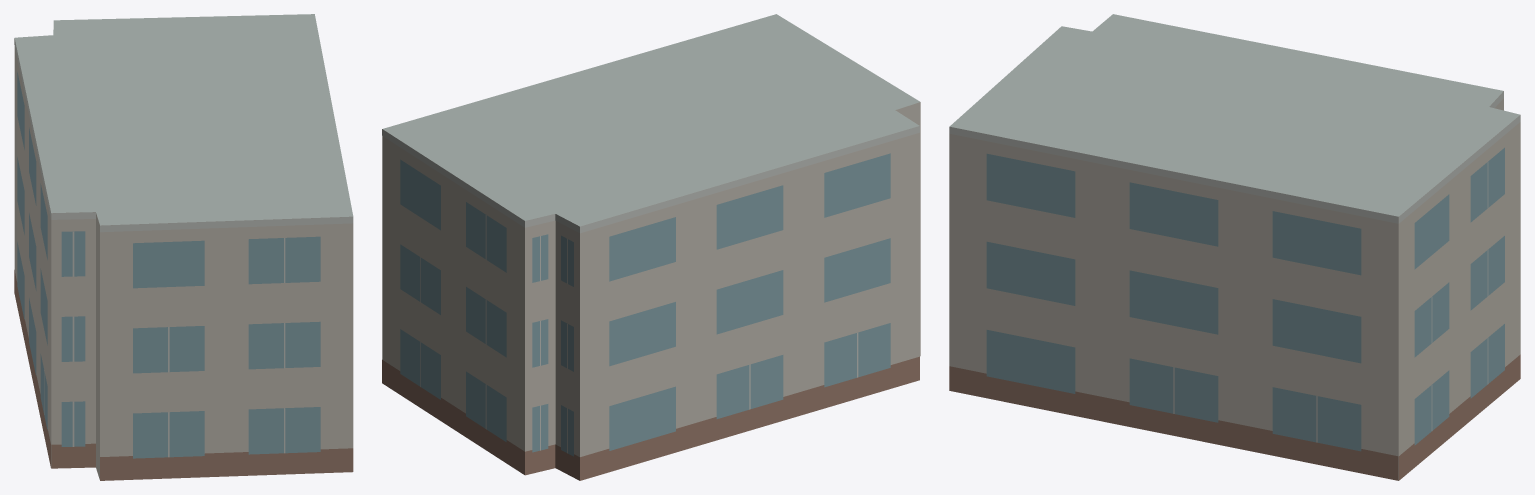
The model's file is survey-upis-32654682.glb.
The picture shows the model from 3 angles, left to right: view 1: azimuth 30°, elevation 25°; view 2: azimuth 150°, elevation 25°; view 3: azimuth 270°, elevation 25°; orthographic projection. The views are drawn at different scales.
Visible parts, largest first — view 1: survey-upis-32654682.tmp; view 2: survey-upis-32654682.tmp; view 3: survey-upis-32654682.tmp.
Boxes of the visible parts, x1,y1,x2,y2 form: survey-upis-32654682.tmp: [14, 14, 353, 480]; survey-upis-32654682.tmp: [382, 14, 920, 480]; survey-upis-32654682.tmp: [949, 14, 1520, 480].
Size of the model in its own units: 15.07 by 9.15 by 17.94.
